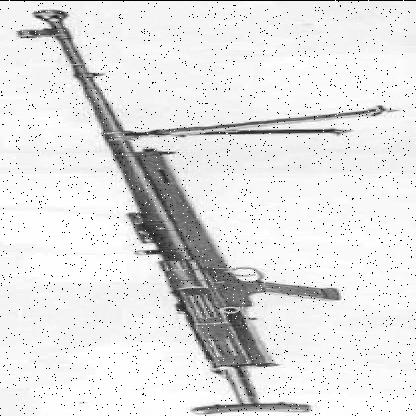rifle: (6, 7, 368, 415)
